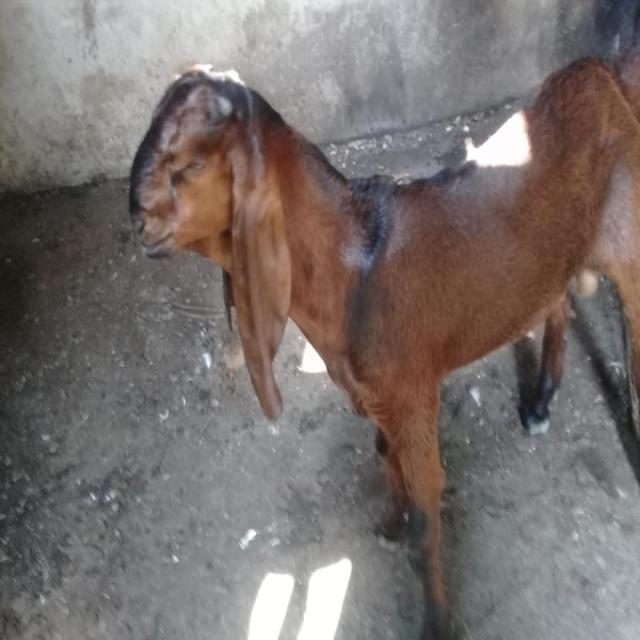Goat: (127, 47, 639, 638)
